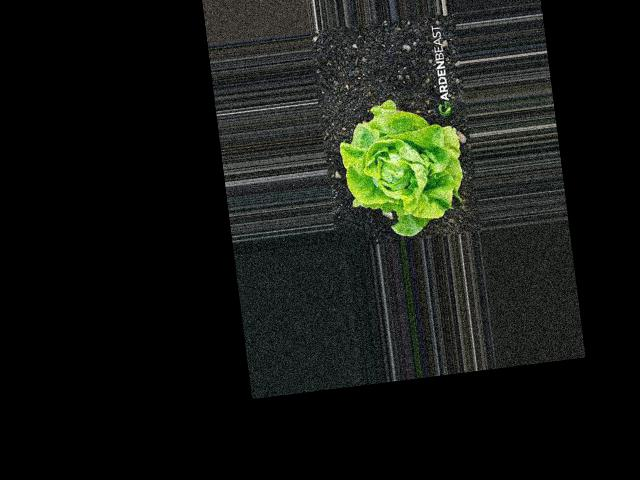lettuce: (343, 109, 465, 220)
